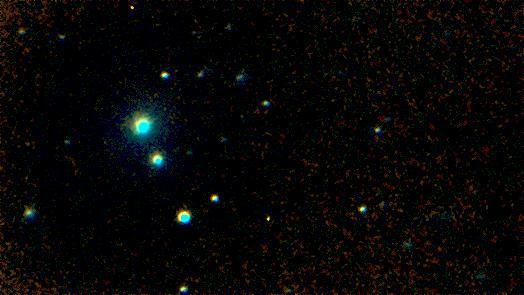star: (11, 130, 41, 160)
